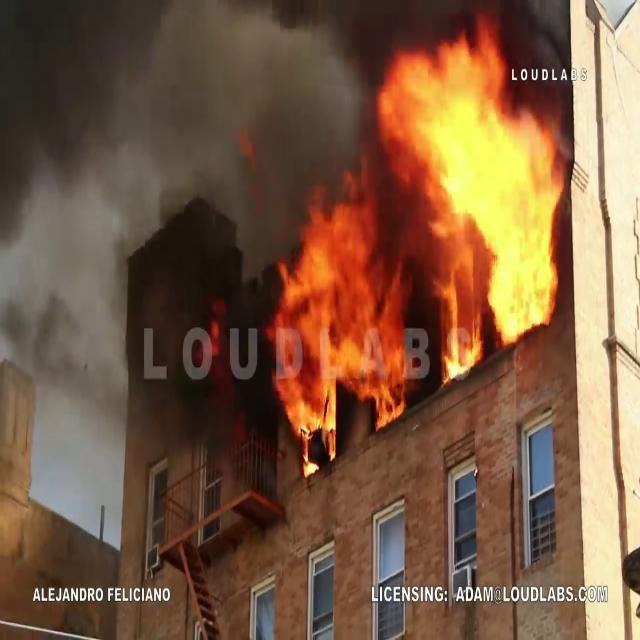Fire: (264, 13, 563, 478)
